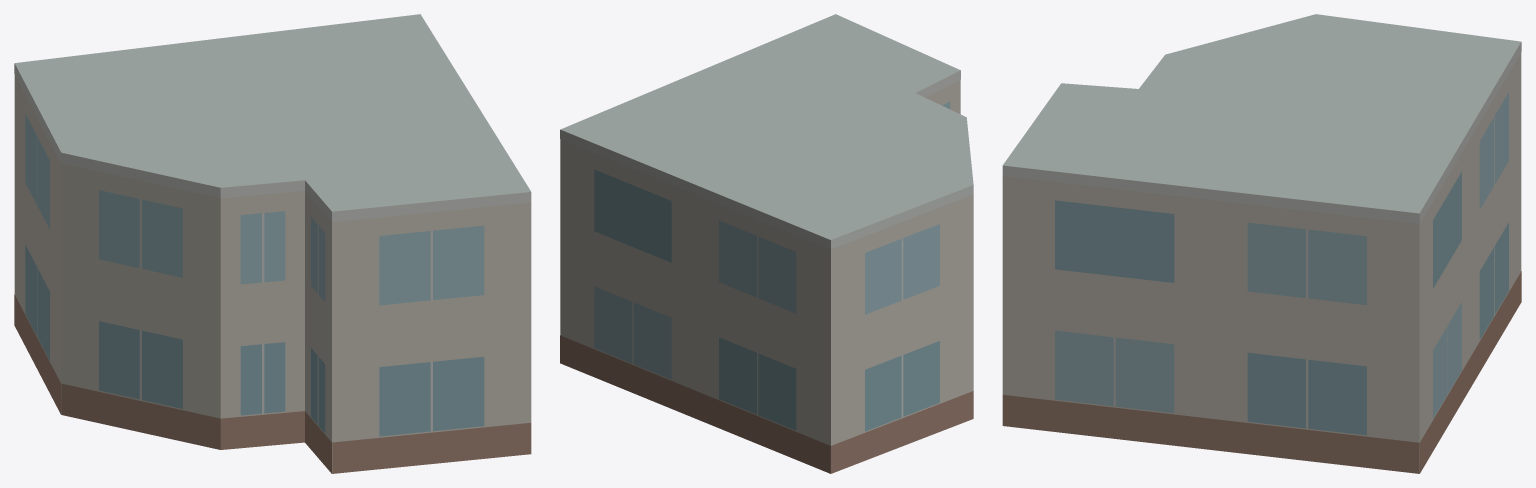
File: survey-upis-32581573.glb
3 renders of one model, left to right at view 1: azimuth 30°, elevation 25°; view 2: azimuth 150°, elevation 25°; view 3: azimuth 270°, elevation 25°, orthographic. The views are drawn at different scales.
Visible parts, largest first — view 1: survey-upis-32581573.tmp; view 2: survey-upis-32581573.tmp; view 3: survey-upis-32581573.tmp.
Part boxes in pixels (box(x1,y1,x2,y2)): survey-upis-32581573.tmp: box(14, 14, 531, 473); survey-upis-32581573.tmp: box(560, 14, 973, 473); survey-upis-32581573.tmp: box(1002, 14, 1521, 473).
Bounding box in the file's own units: 10.03 × 6.1 × 11.03.
